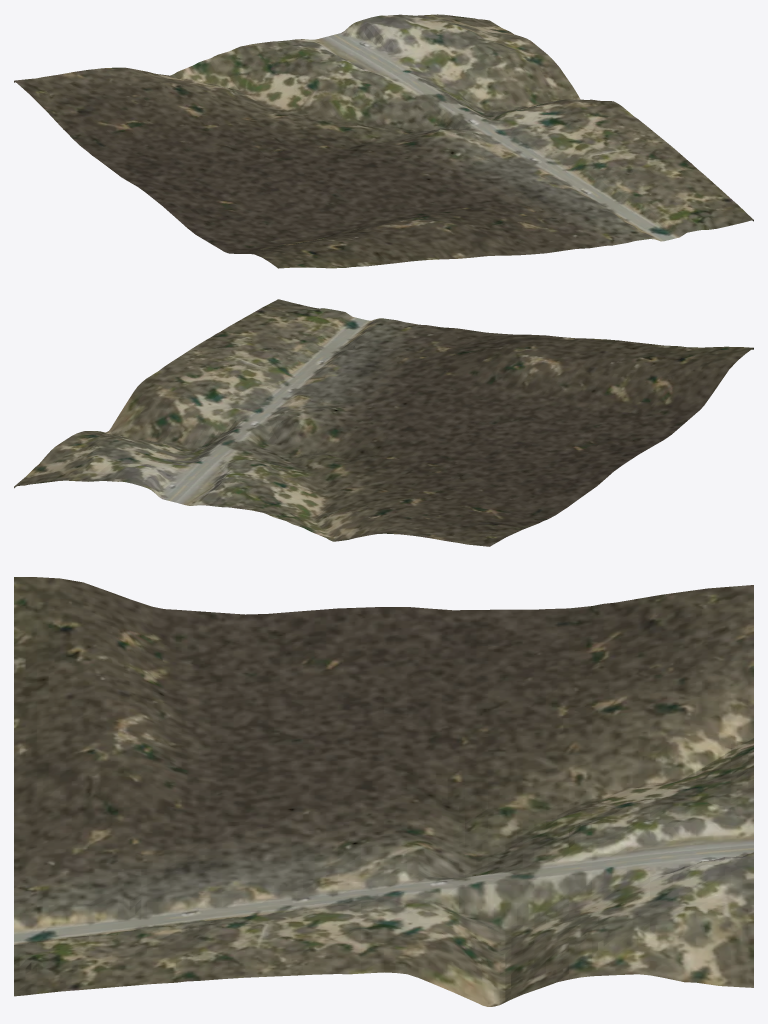
3 renders of one model, top to bottom at view 1: azimuth 30°, elevation 25°; view 2: azimuth 150°, elevation 25°; view 3: azimuth 270°, elevation 25°, orthographic. The views are drawn at different scales.
Size of the model in its own units: 250 by 38.7 by 241.
Materials: 1 (1 with a texture image).
